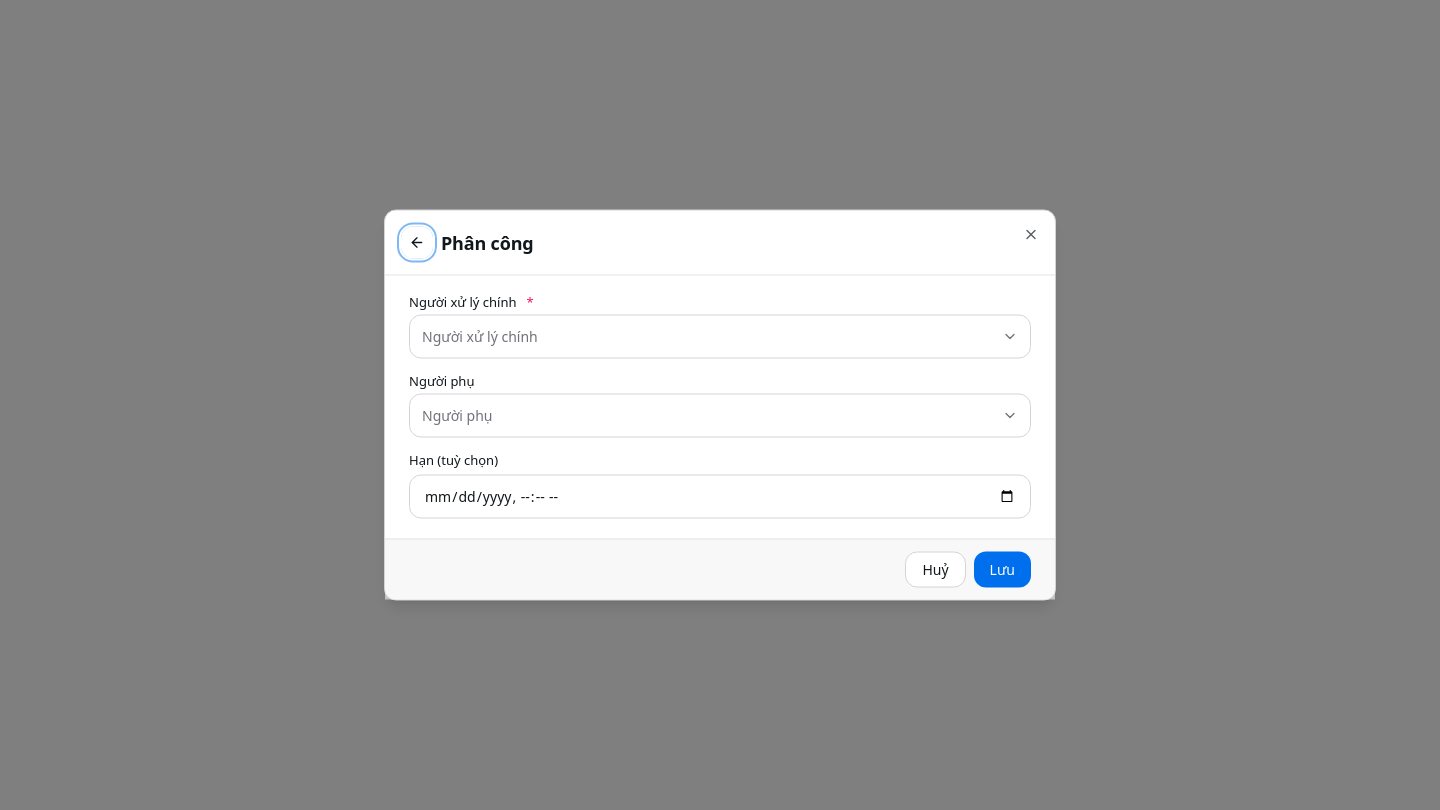
Test case: số phiếu đang xử lý hiện ngay trong danh sách chọn, không bày riêng bên ngoài
This screenshot has width=1440, height=810.
Click the dropdown labelled "Người xử lý chính" at (480, 336), box [409,314,1031,358]
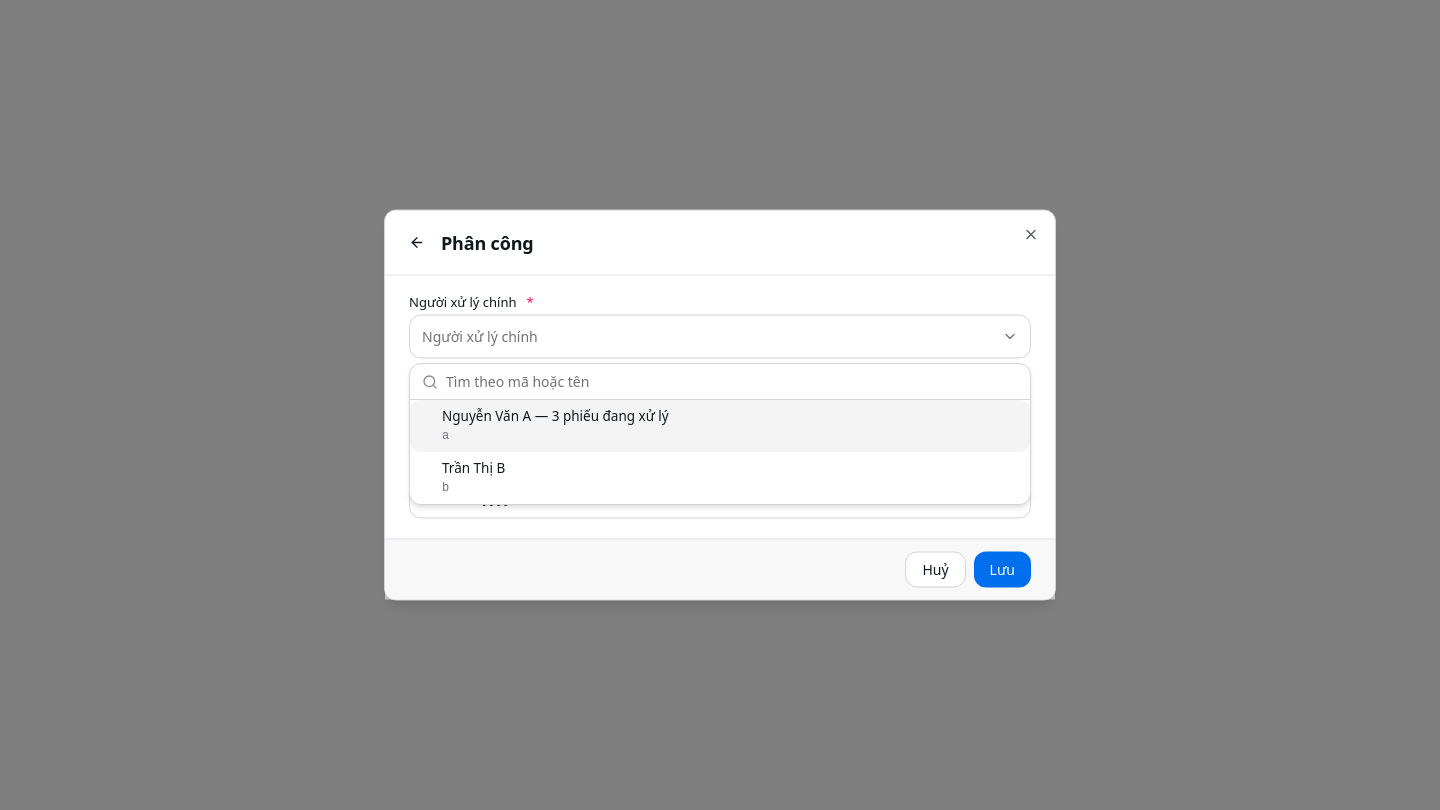
Check: the option "Nguyễn Văn A — 3 phiếu đang xử lý a" is shown, box [410,400,1030,452]
